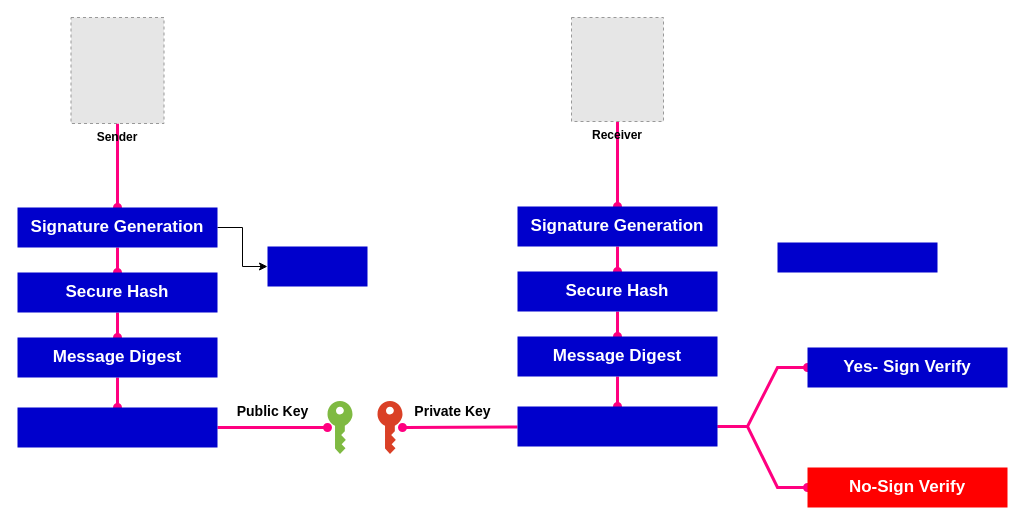
The diagram is 1024 pixels wide and 525 high, and some of its shapes have lost their labels. Grey dashed boxes stand in for pictures. The box of each missing label's shape, as (x1, y1, x2, y2) in pixels:
DSA Sign Operation: (17, 407, 217, 447)
DSA Verify operation: (517, 406, 717, 446)
message: (267, 246, 367, 286)
Received Message: (777, 242, 937, 272)
